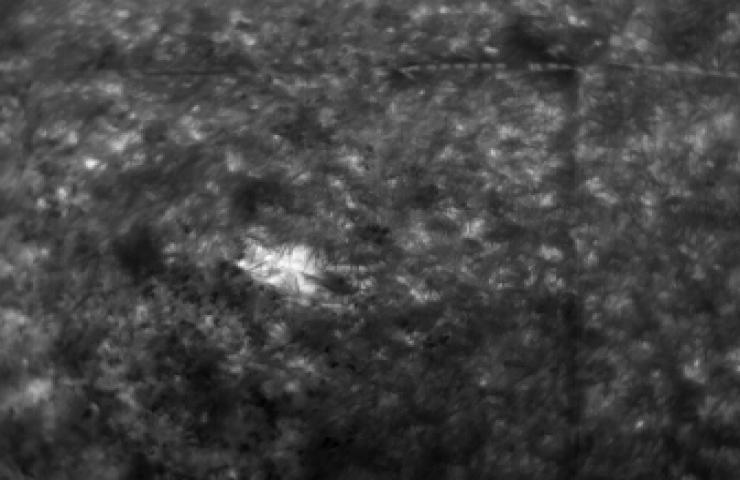landmines: (235, 228, 330, 304)
